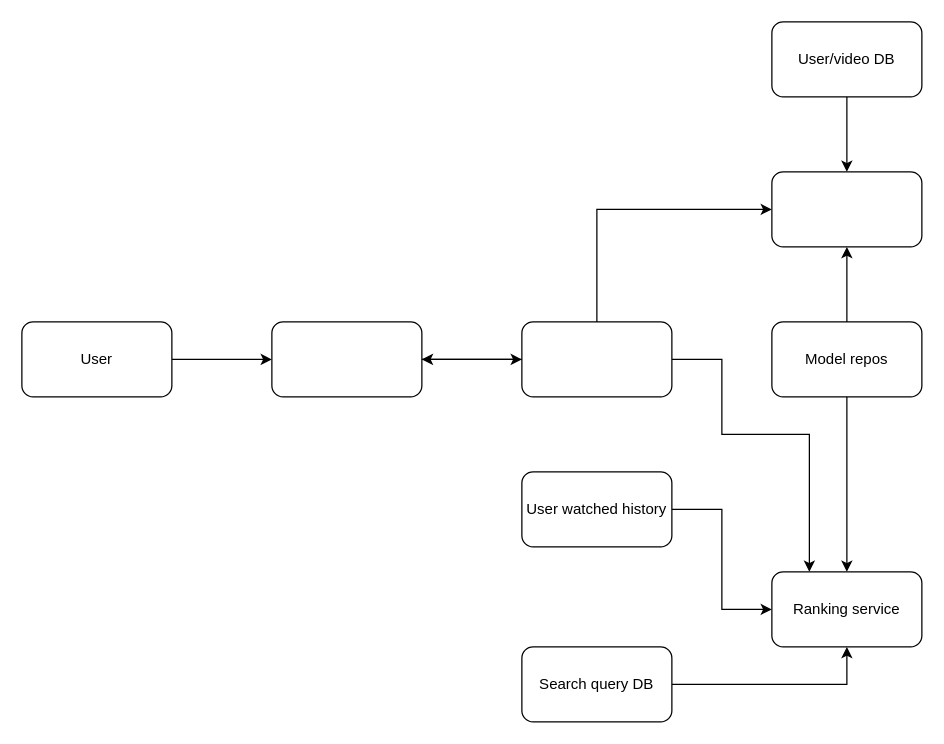
Some shapes in this 944 by 744 pixel diagram are drawn without their labels. Here are the shapes that lost their labels. From the top down, the centre of each, then its label:
At point (846, 209): "Candidate generation service".
At point (346, 359): "Load balancer".
At point (596, 359): "App server".
